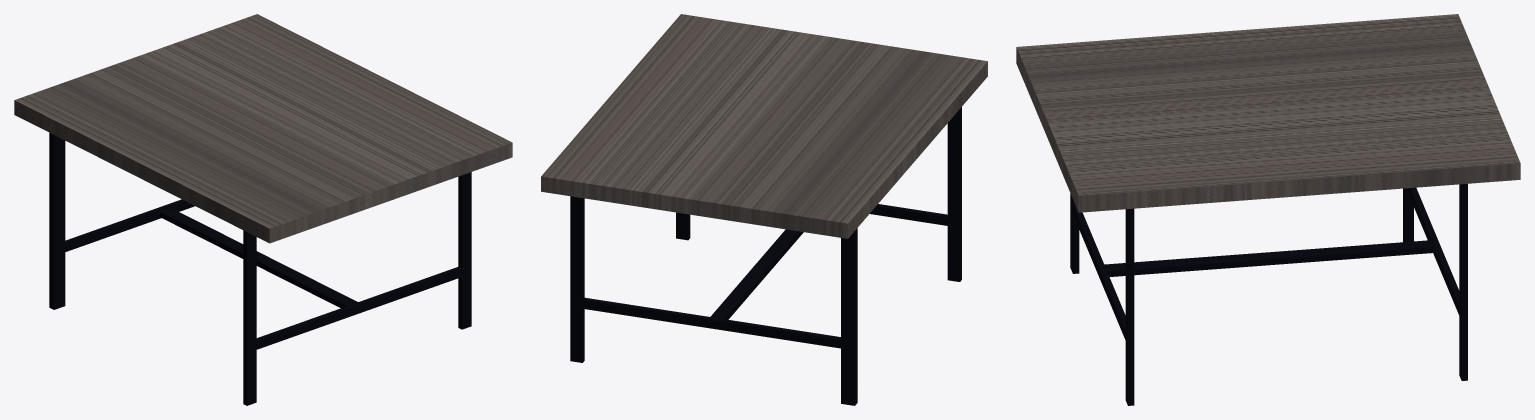
File: Table5.glb
The picture shows the model from 3 angles, left to right: view 1: azimuth 30°, elevation 25°; view 2: azimuth 150°, elevation 25°; view 3: azimuth 270°, elevation 25°; orthographic projection. The views are drawn at different scales.
Visible parts, largest first — view 1: SM_MERGED_StaticMeshActor_166; view 2: SM_MERGED_StaticMeshActor_166; view 3: SM_MERGED_StaticMeshActor_166.
Part boxes in pixels (box(x1,y1,x2,y2)): SM_MERGED_StaticMeshActor_166: box(14, 14, 512, 405); SM_MERGED_StaticMeshActor_166: box(541, 14, 987, 405); SM_MERGED_StaticMeshActor_166: box(1016, 14, 1520, 405).
Size of the model in its own units: 0.6241 by 0.3534 by 0.7304.
Materials: 2 (2 with a texture image).
